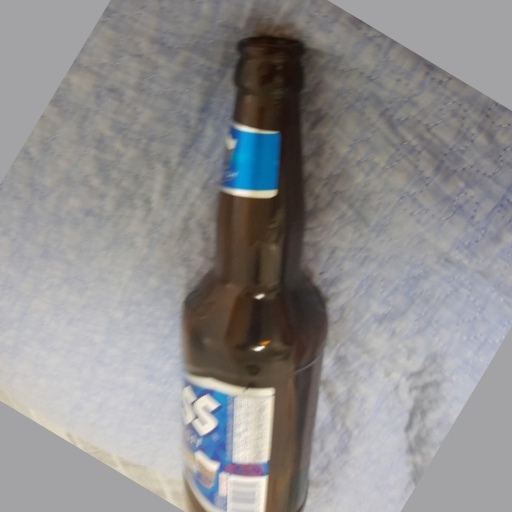Glass_1: (172, 35, 333, 512)
